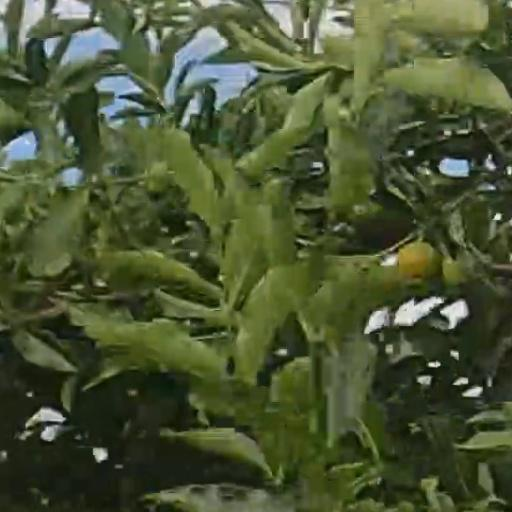acerola_verde: (443, 259, 463, 286)
acerola_vermelha: (398, 240, 436, 280)
